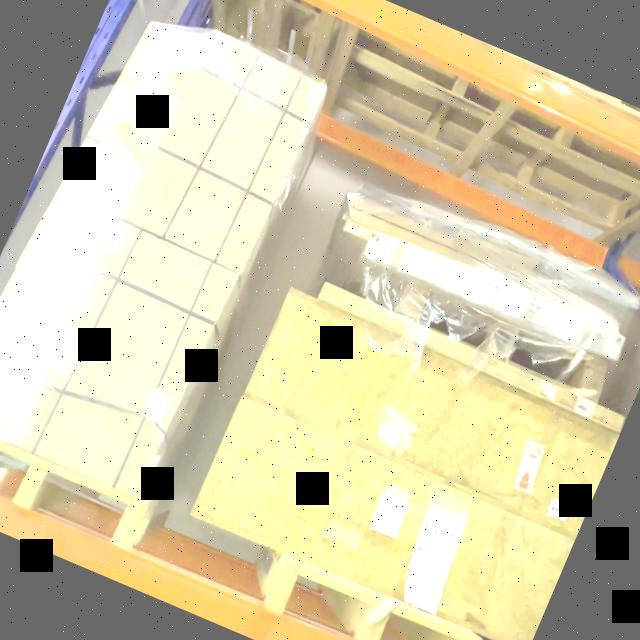box: (28, 224, 231, 485), (127, 32, 323, 276), (33, 137, 139, 290), (101, 22, 199, 158), (0, 272, 71, 444)
